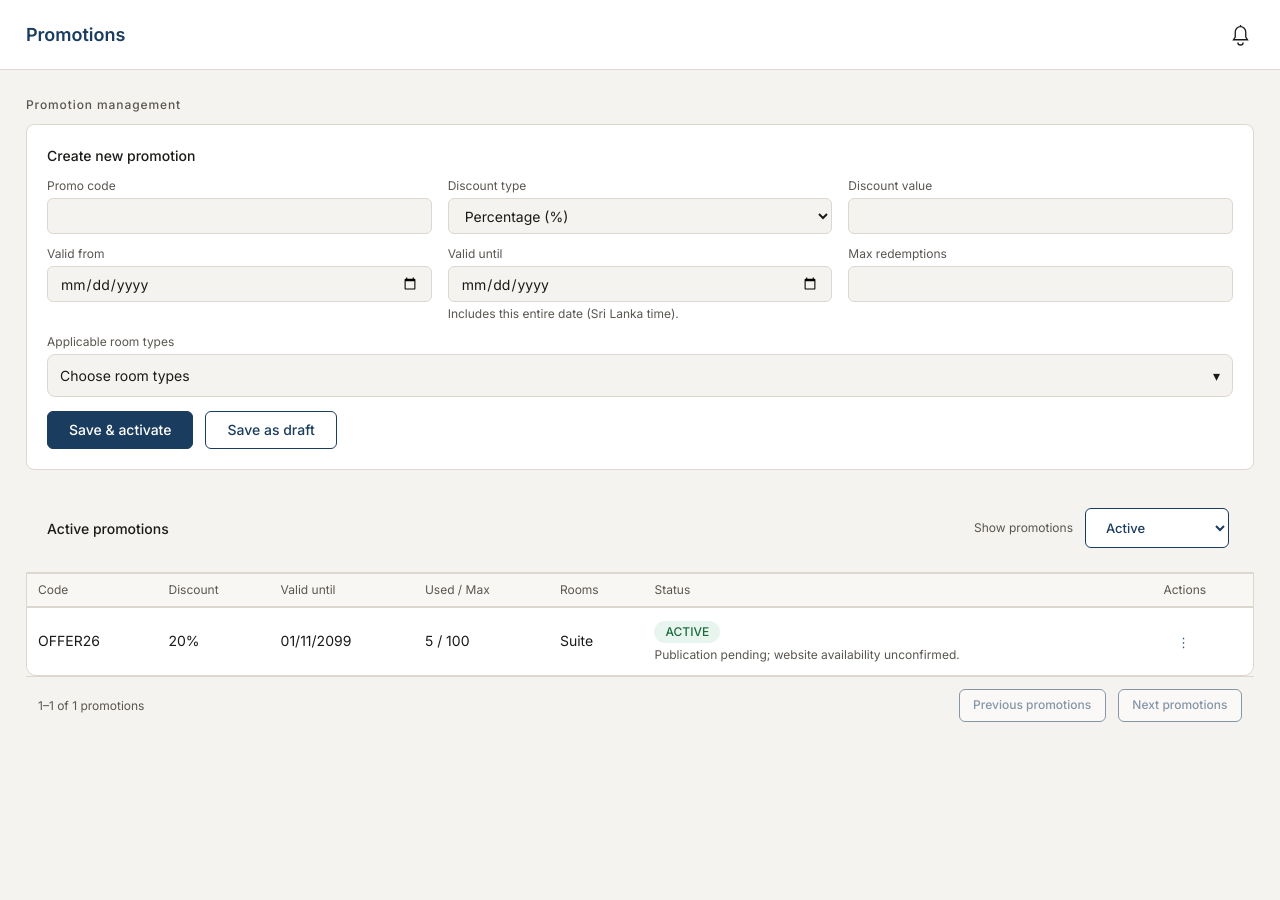
Scenario: DDP-020 promotion management › TC-MAD-020-AC2: reloads a conflicting version and preserves unsaved input
Step 1. Click the button named "Actions for OFFER26" → (1184, 642), box [1164, 636, 1204, 649]
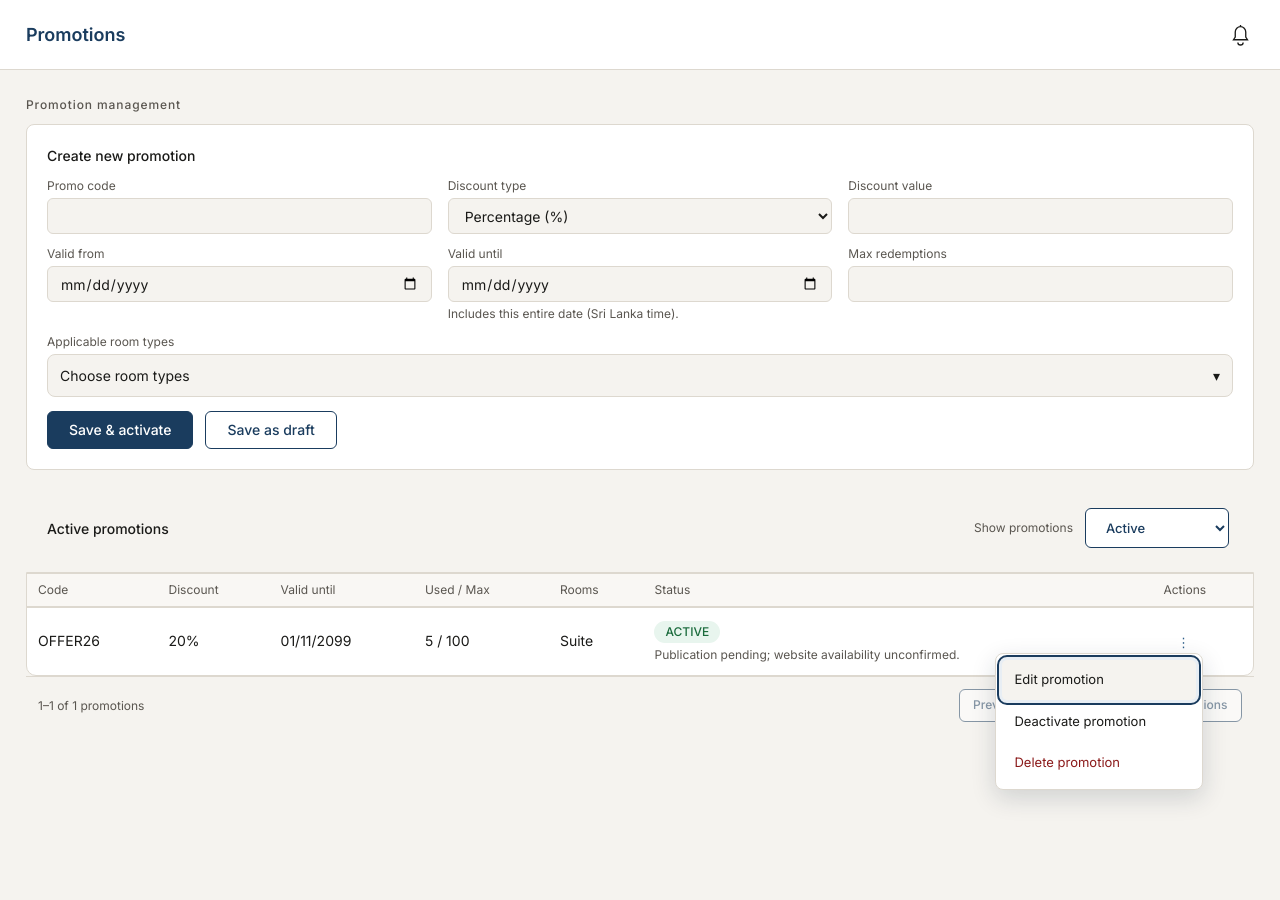
Step 2. Click the button "Edit promotion" → (1100, 680), box [1002, 660, 1196, 700]
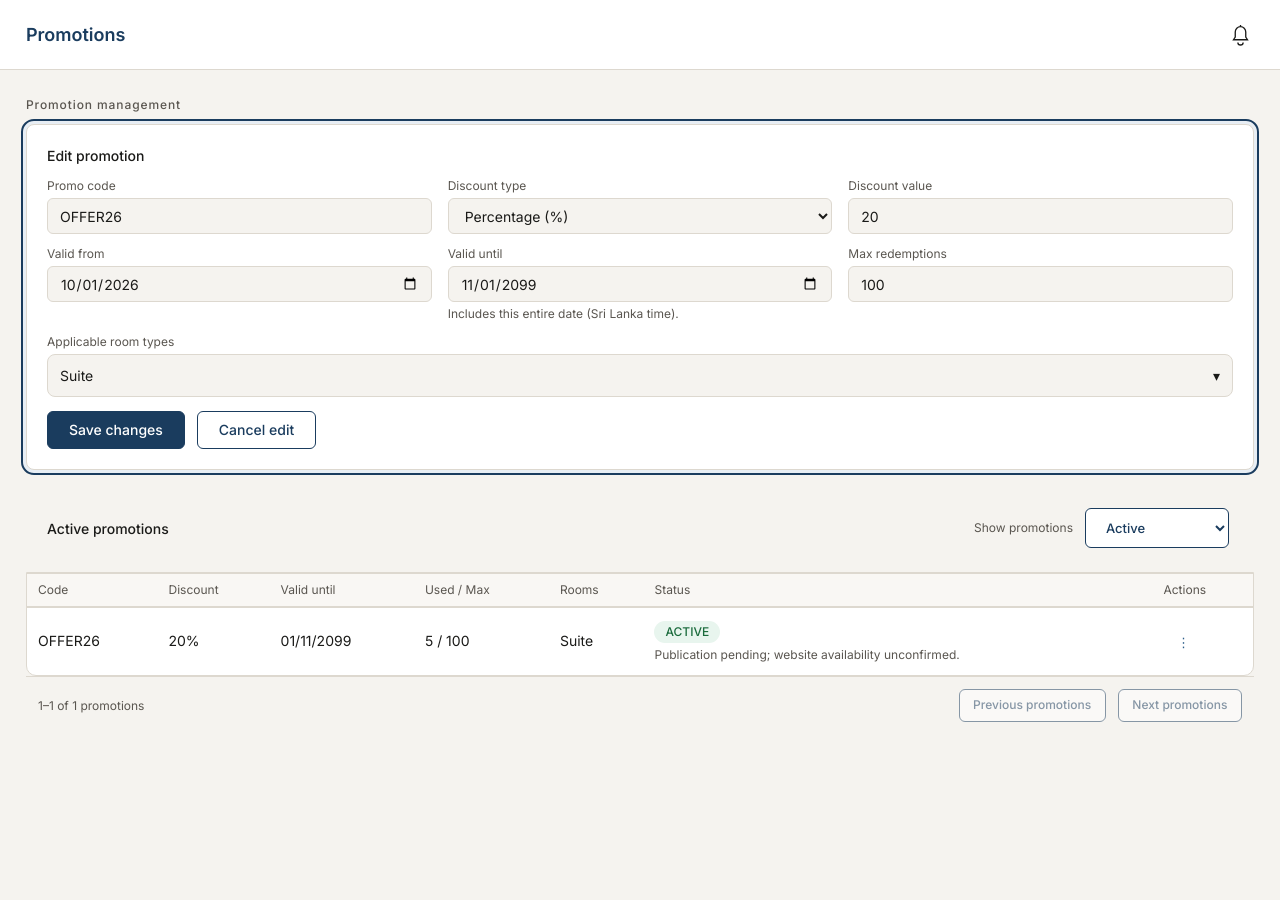
expect the button "Save changes" is shown: met, box [47, 411, 185, 449]
Step 3. Replace the text in the field labelled "Promo code" with "MYEDIT" → (239, 216), box [47, 198, 432, 234]
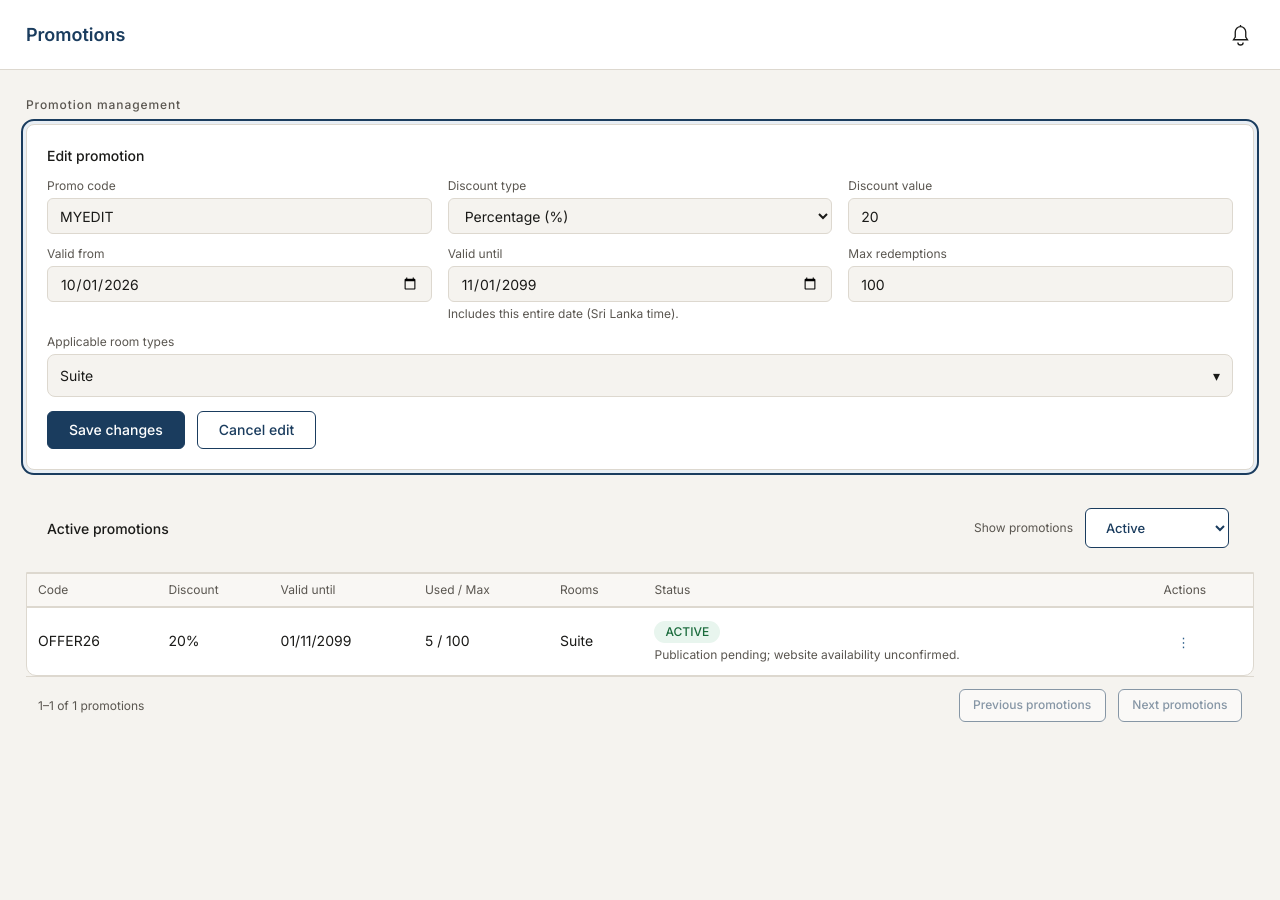
Step 4. Click the button "Save changes" → (116, 430), box [47, 411, 185, 449]
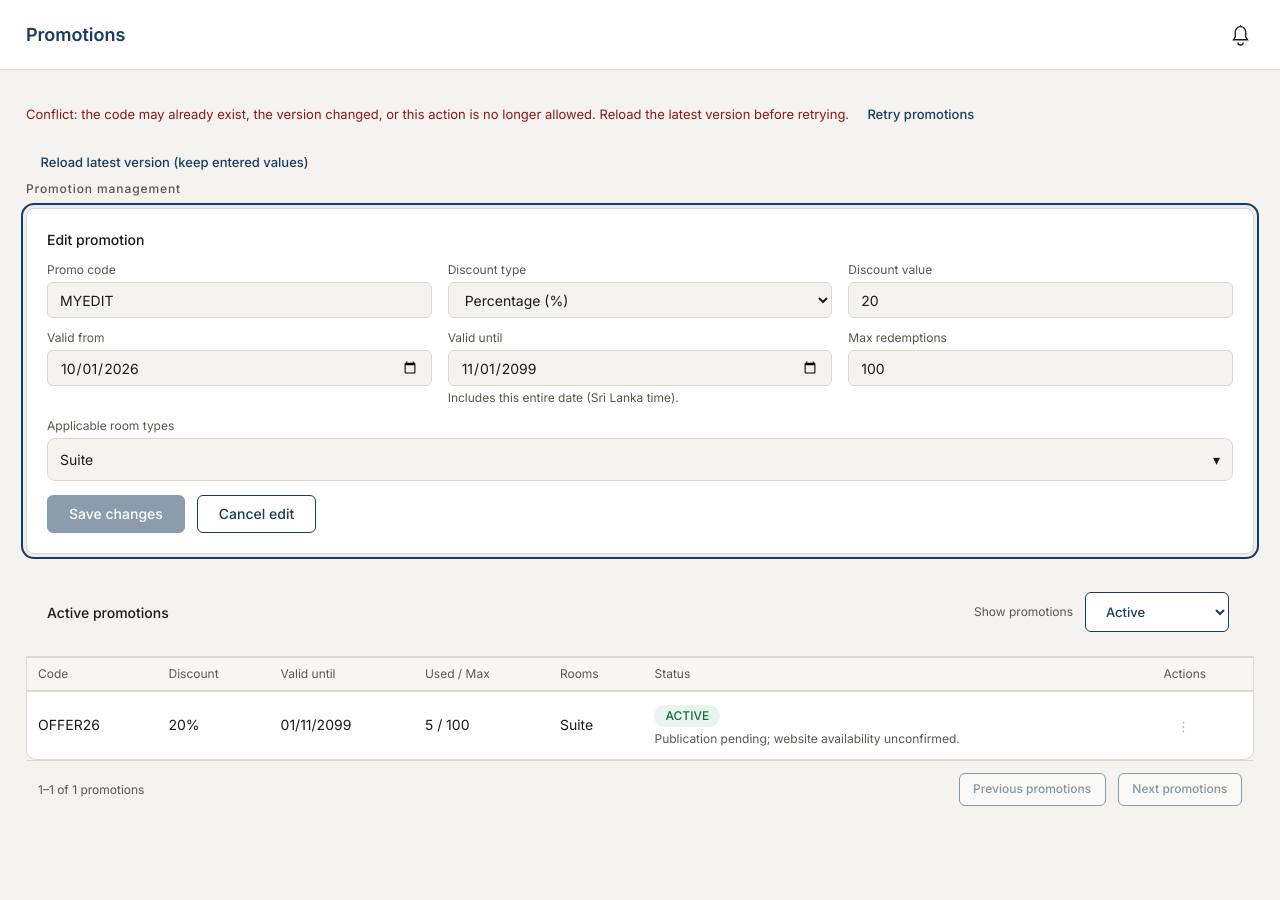
expect the message shows "Conflict": met, box [26, 106, 849, 122]
expect the button "Save changes" is disabled: met, box [47, 495, 185, 533]
Step 5. Click the button "Reload latest version (keep entered values)" → (175, 162), box [26, 144, 323, 180]
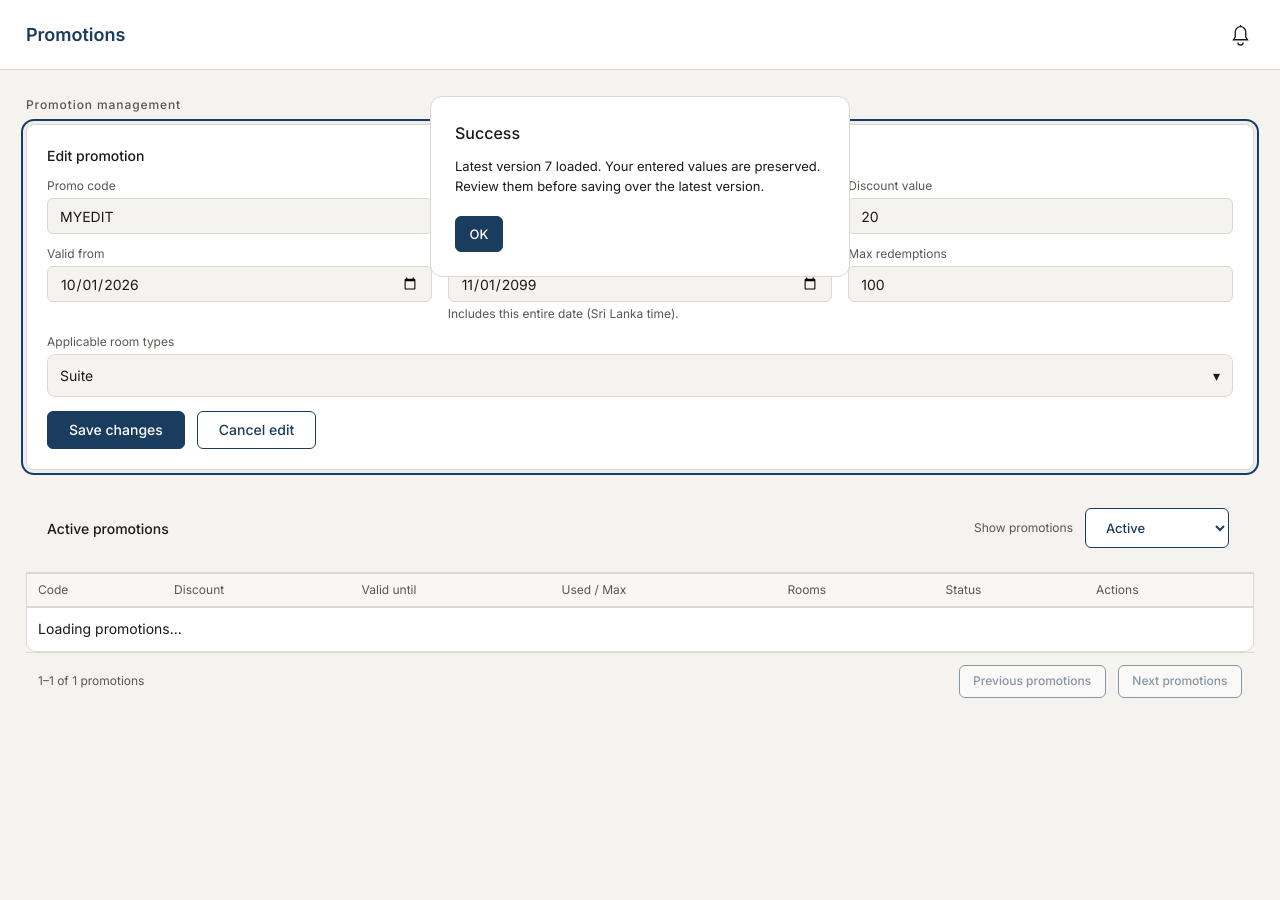
expect the text "Latest version 7 loaded" is shown: met, box [455, 158, 821, 194]
Step 6. Click the button "Save changes" → (116, 430), box [47, 411, 185, 449]
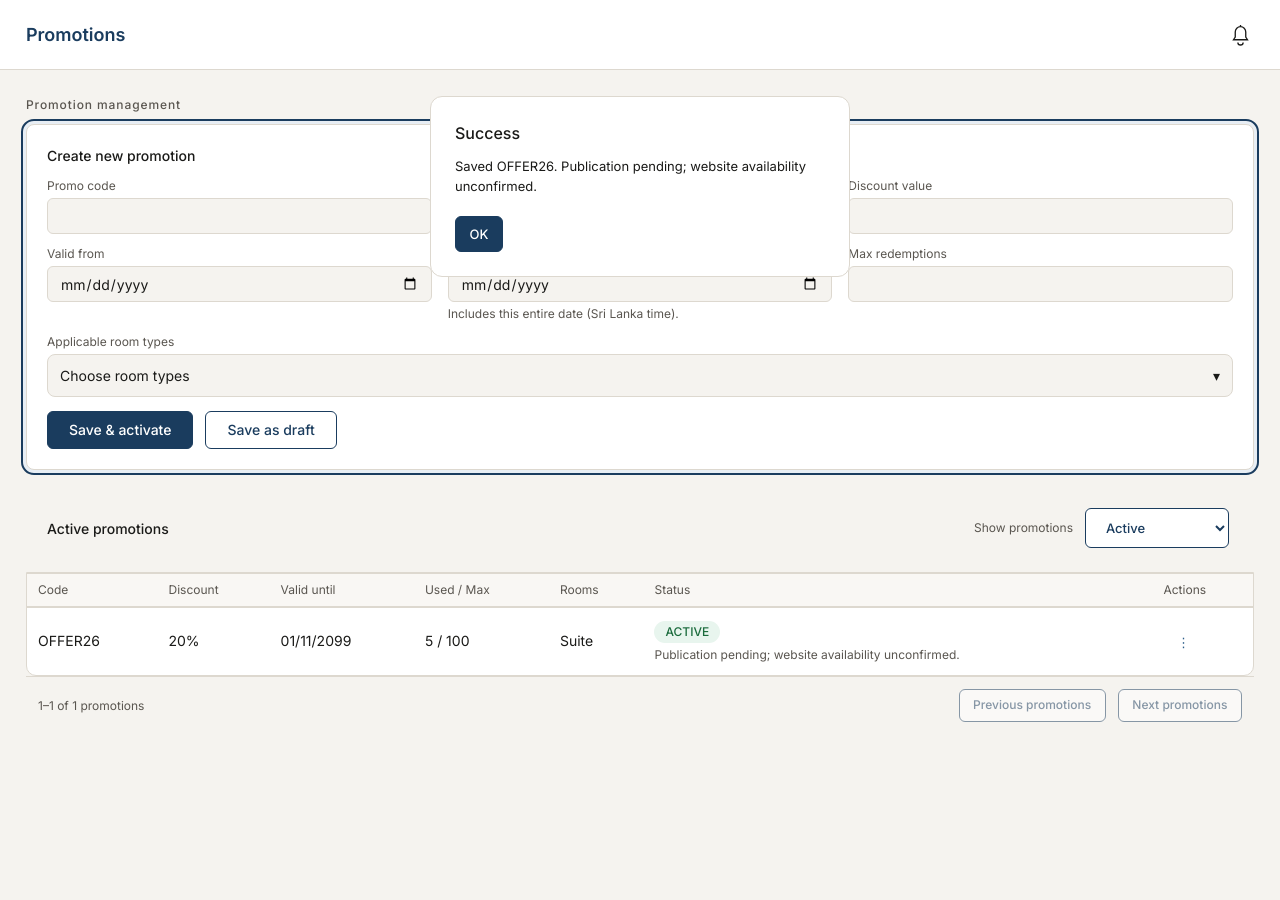
expect the text "Saved OFFER26. Publication pending; website availability unconfirmed." is shown: met, box [455, 157, 825, 196]
